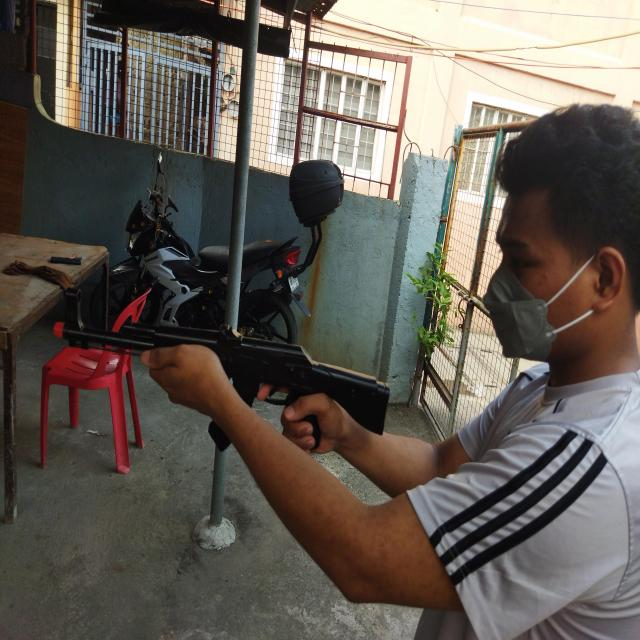rifle: (47, 307, 393, 455)
